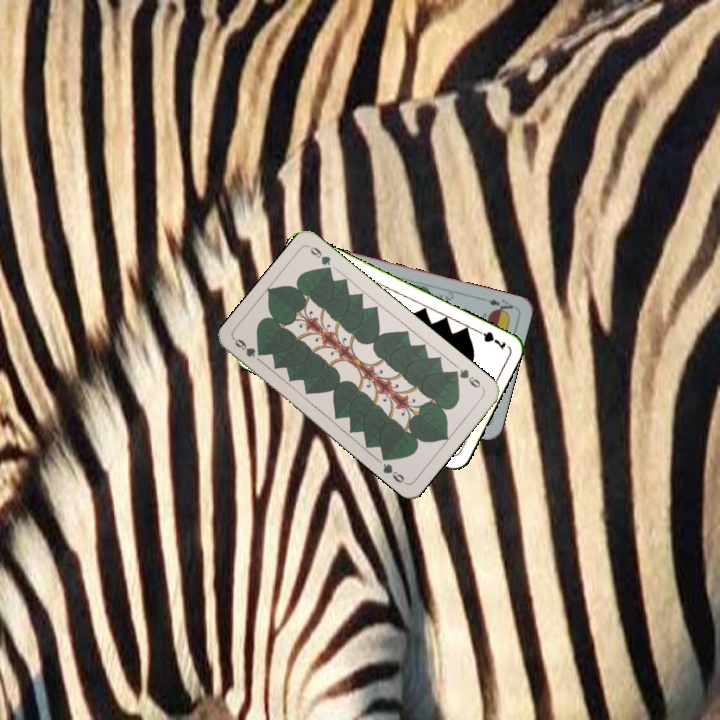EA: (484, 295, 516, 316)
G7: (471, 325, 509, 352)
G9: (448, 364, 486, 392), (230, 335, 265, 360)
